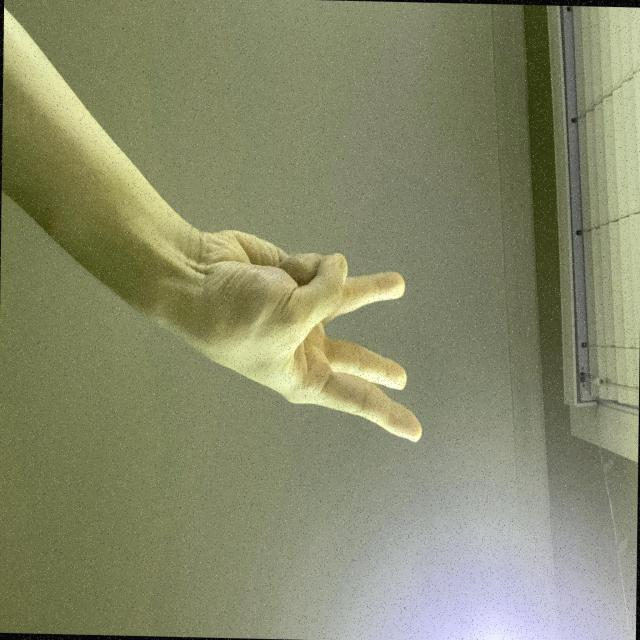W: (321, 274, 499, 626)
